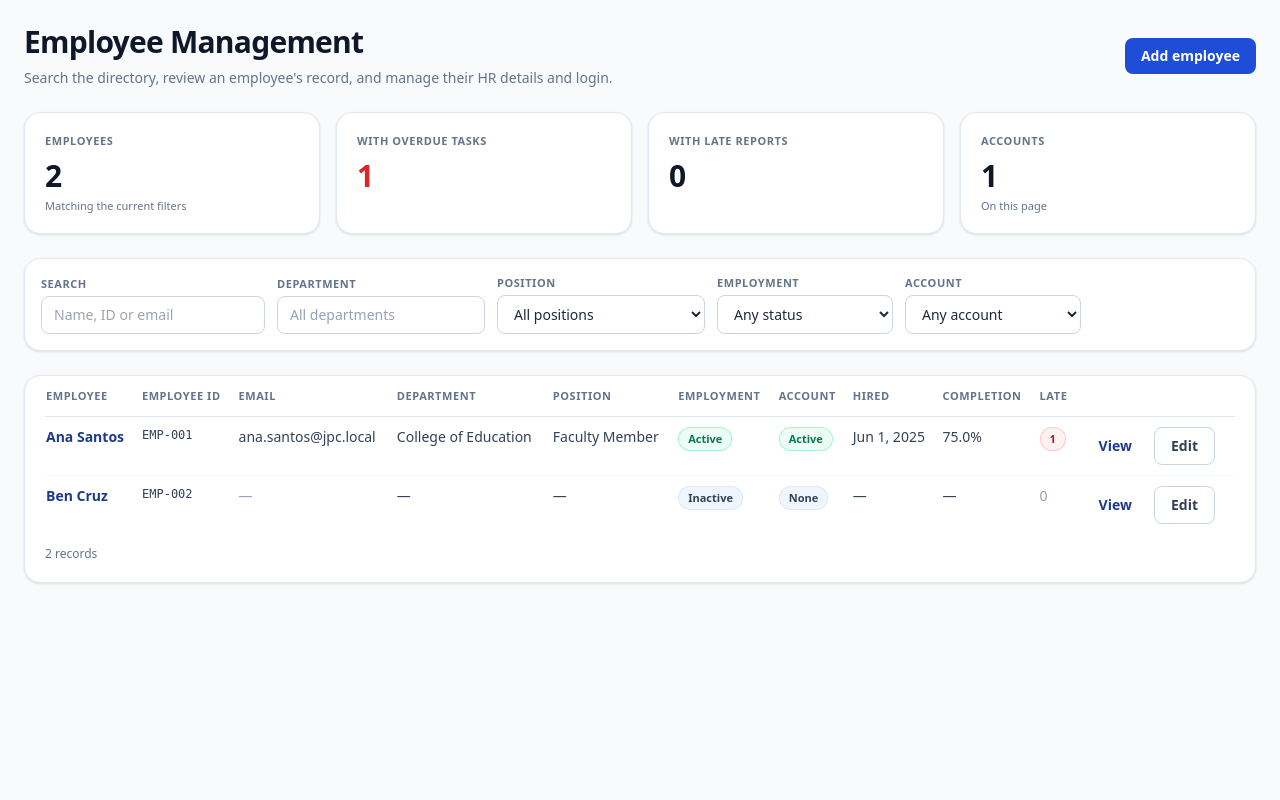
Test: EmployeesPage › renders unmeasured profile rates as a dash, never 0%
This screenshot has width=1280, height=800.
Expected: the table is shown, [45, 376, 1235, 534]
Click the button "View" in the row of "EMP-001" at (1115,446), box [1083, 427, 1148, 465]
(page scrolled)
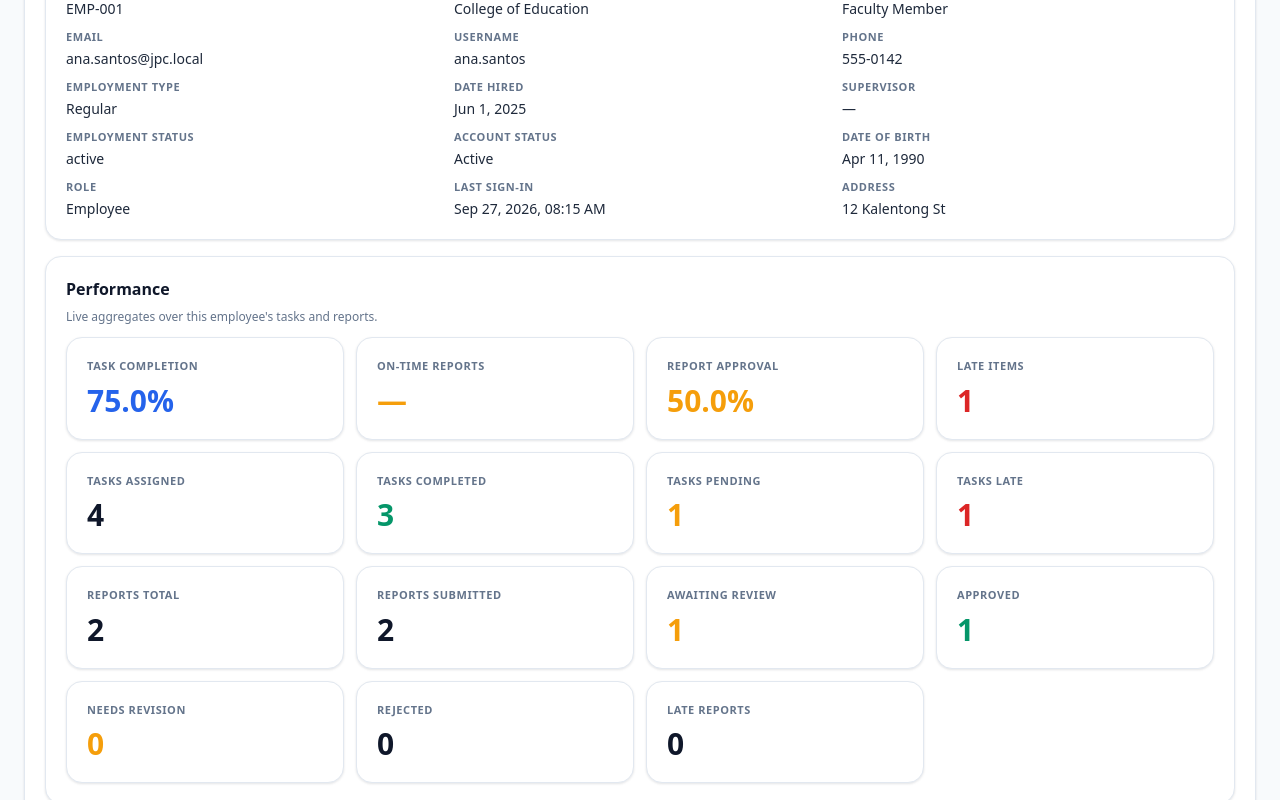
Expected: the text "75.0%" is shown, [87, 380, 174, 421]
Expected: the text "—" below "On-time reports" is shown, [377, 380, 407, 421]
